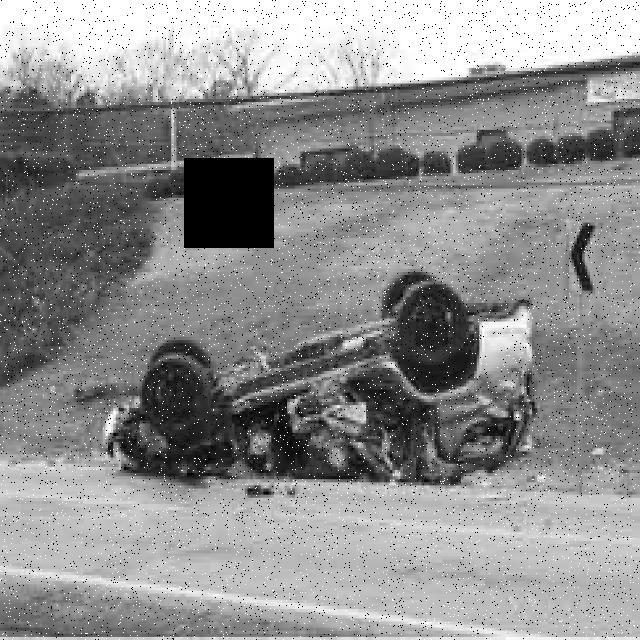severe: (100, 262, 537, 482)
